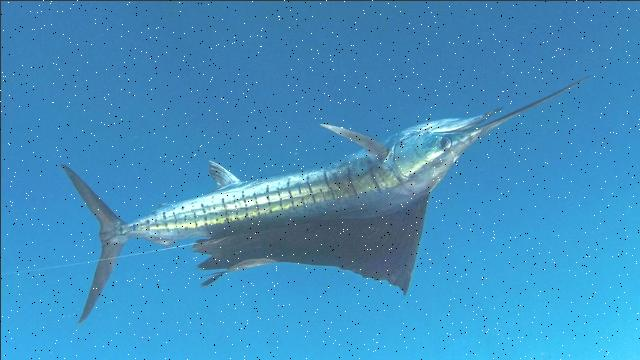Mulut: (426, 70, 612, 156)
Sirip Anal: (138, 188, 182, 253)
Sirip Dada: (312, 114, 396, 172)
Sirip Ekor: (46, 154, 134, 340)
Sirip Perut: (199, 149, 249, 201)
Sirip Punggung: (180, 179, 438, 307)
